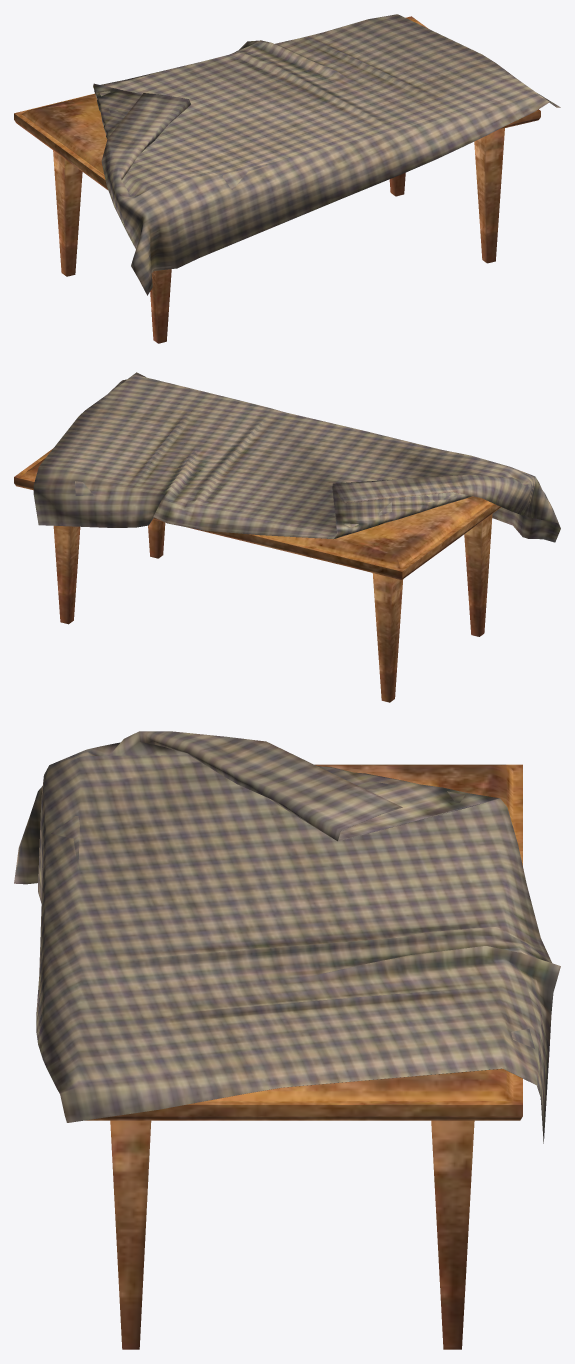
The model's file is dining_table.glb.
3 renders of one model, top to bottom at view 1: azimuth 30°, elevation 25°; view 2: azimuth 150°, elevation 25°; view 3: azimuth 270°, elevation 25°, orthographic. The views are drawn at different scales.
Parts seen in each view (by area): view 1: dining_table_cloth, dining_table; view 2: dining_table_cloth, dining_table; view 3: dining_table_cloth, dining_table.
Boxes of the visible parts, x1,y1,x2,y2 form: dining_table_cloth: (93,14,560,295); dining_table: (14,16,540,343); dining_table_cloth: (33,372,560,542); dining_table: (14,448,501,702); dining_table_cloth: (14,731,560,1143); dining_table: (85,764,522,1349).
Size of the model in its own units: 2.26 by 0.877 by 1.39.
1 material, 1 textured.
